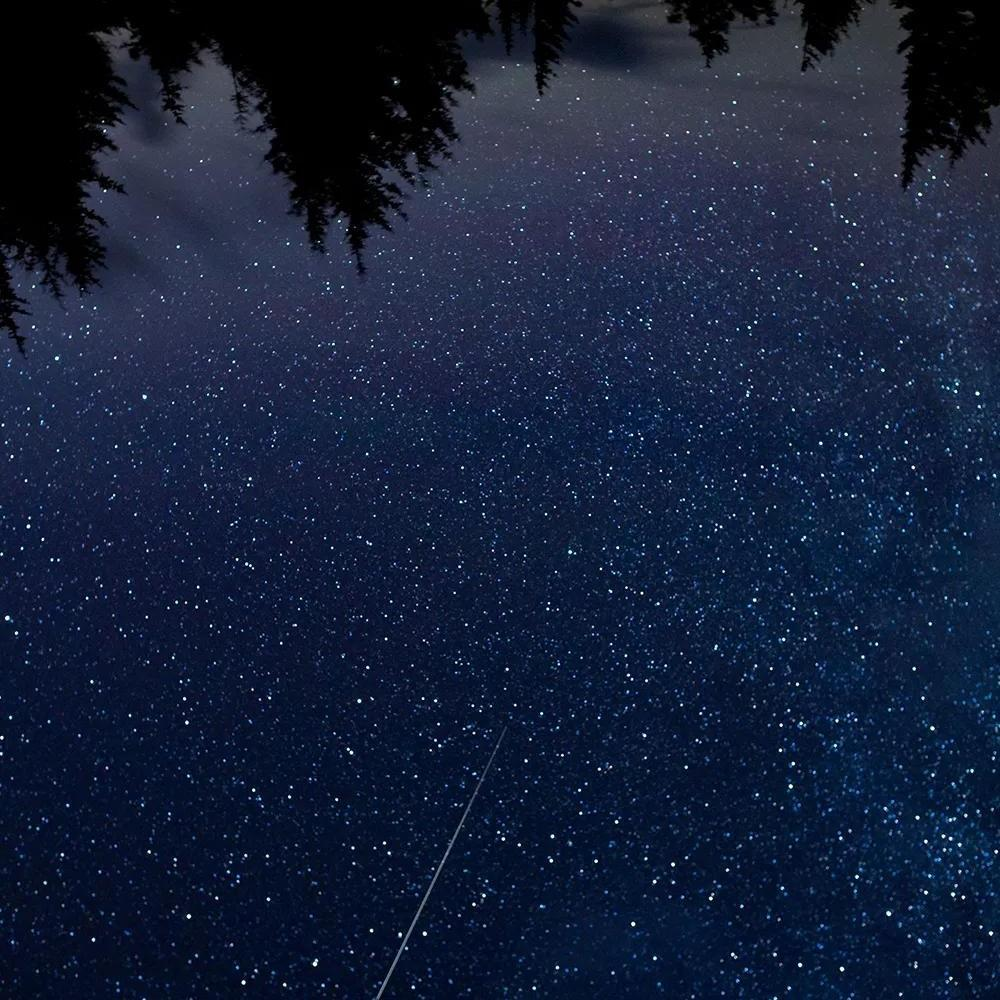meteorite: (321, 748, 542, 971)
